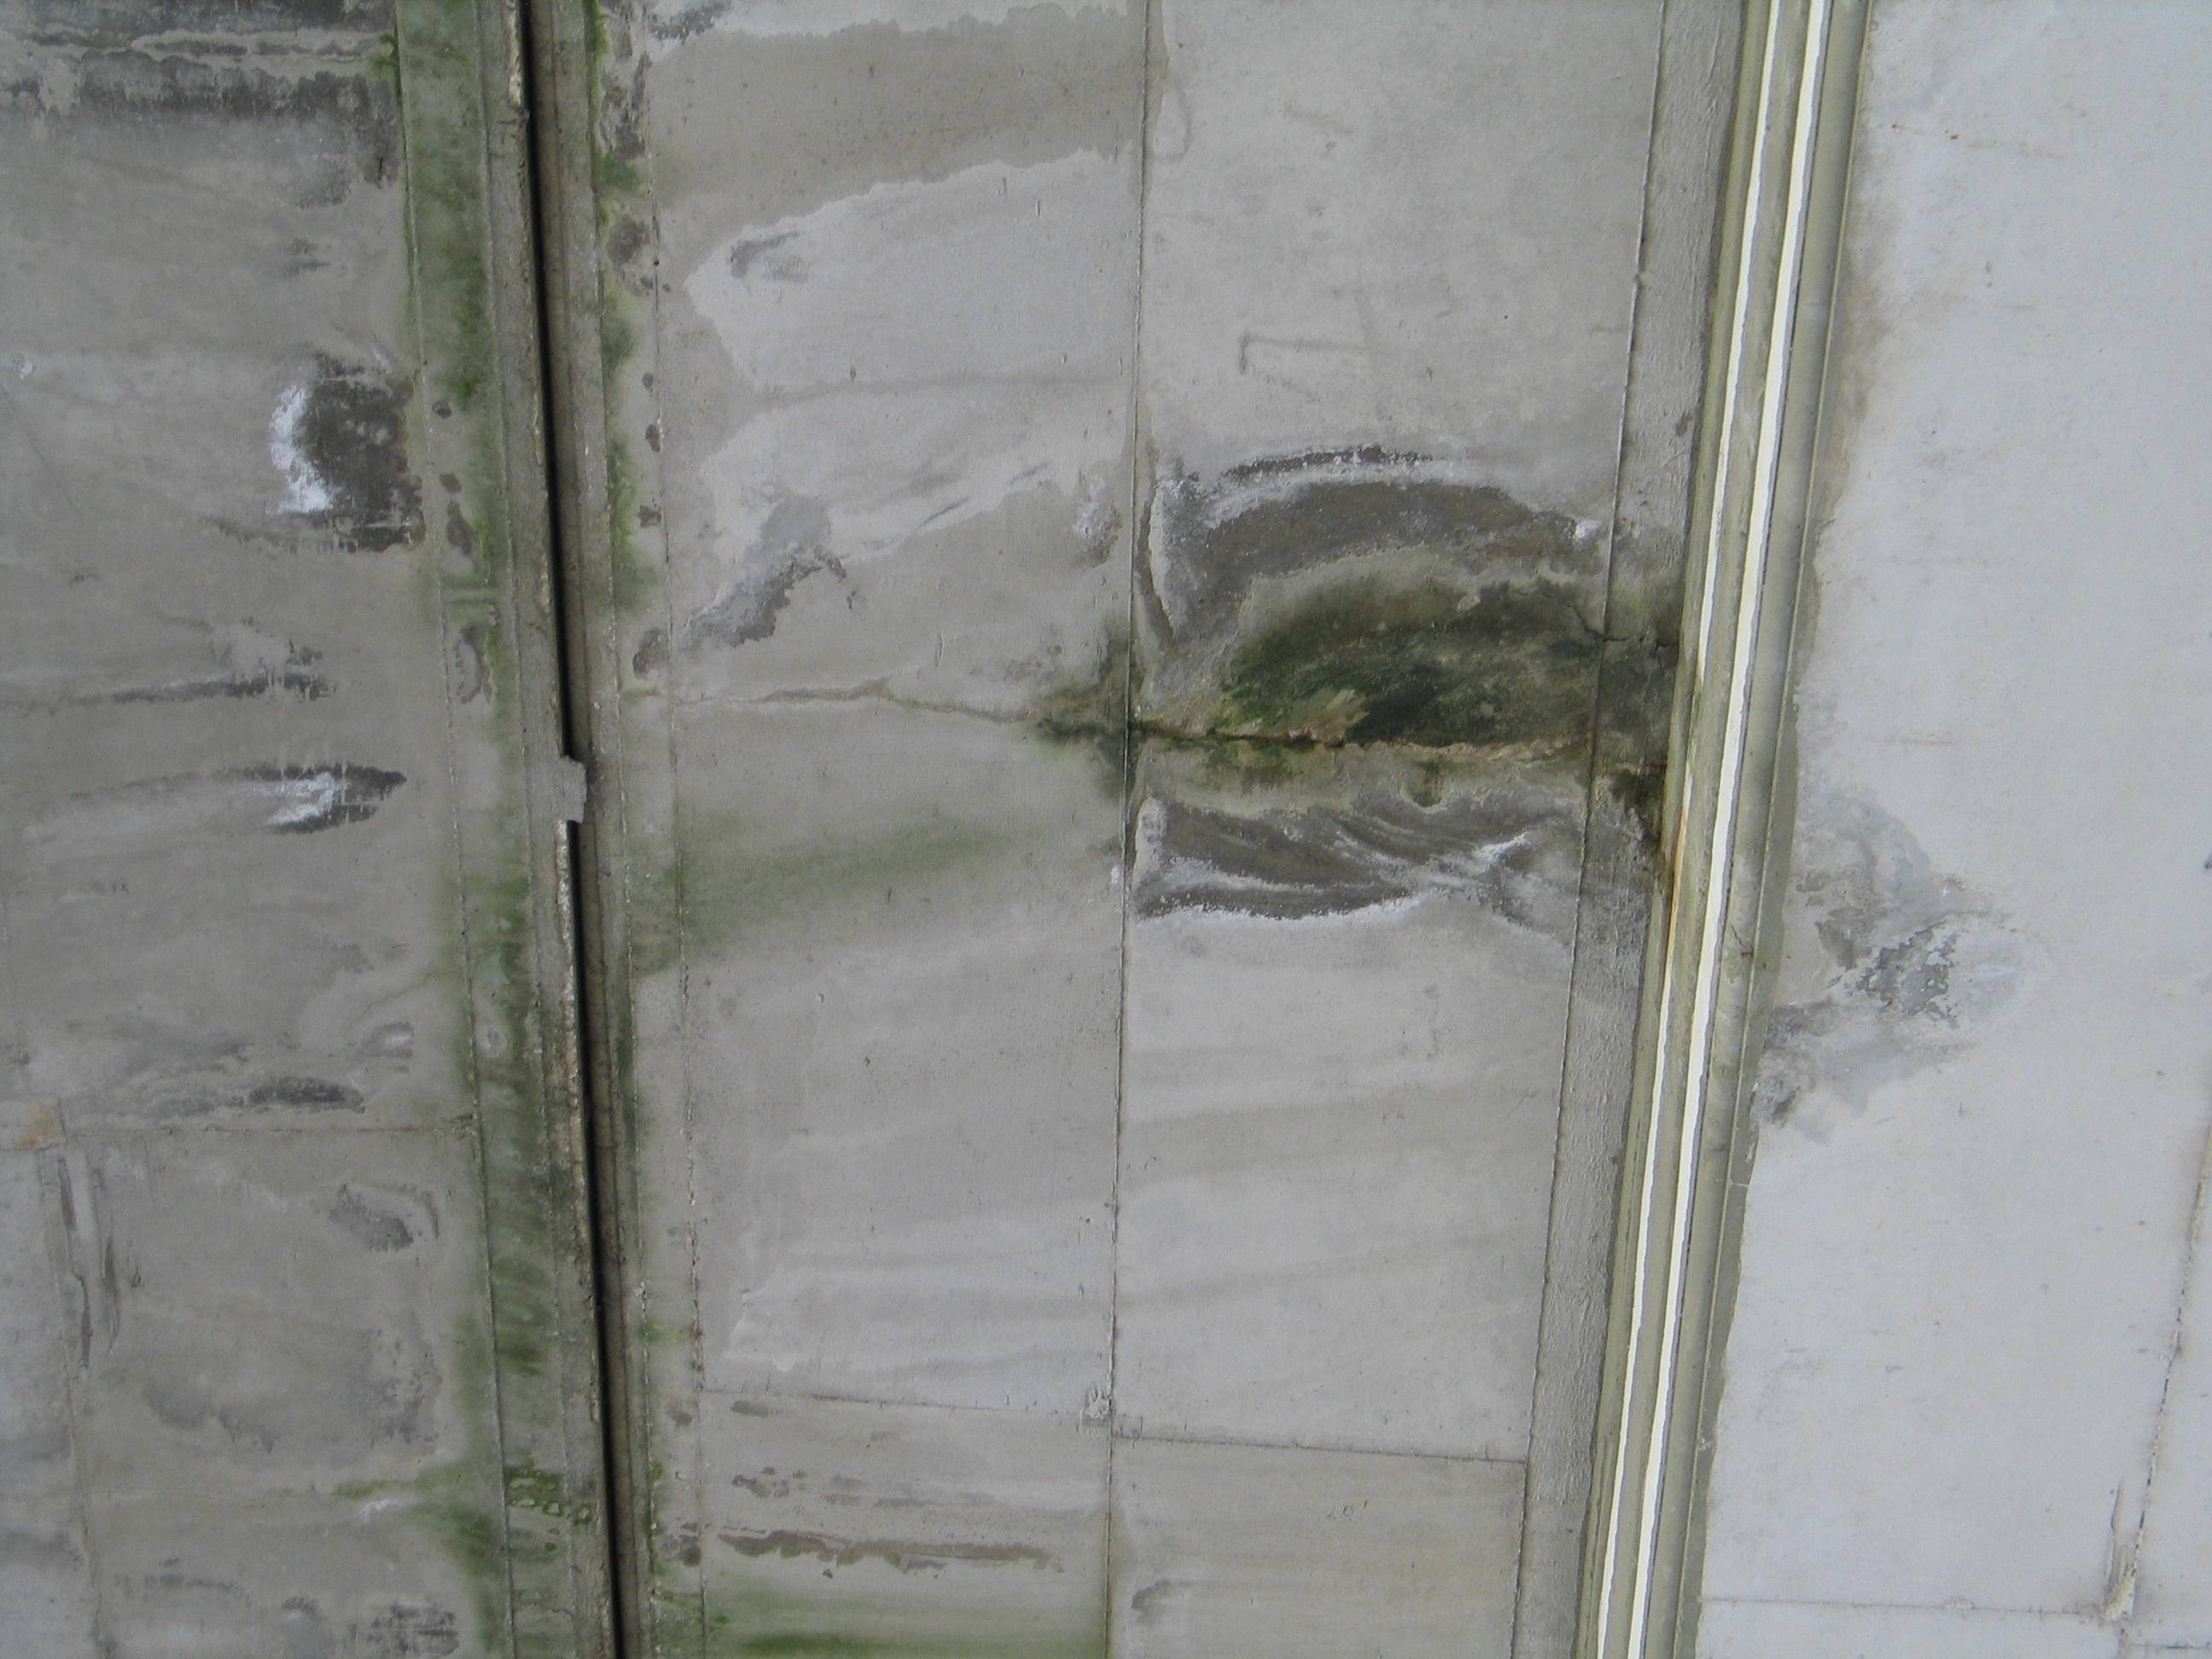defect: (1141, 443, 1684, 941), (674, 678, 1043, 732), (254, 385, 338, 516), (240, 763, 355, 828)
